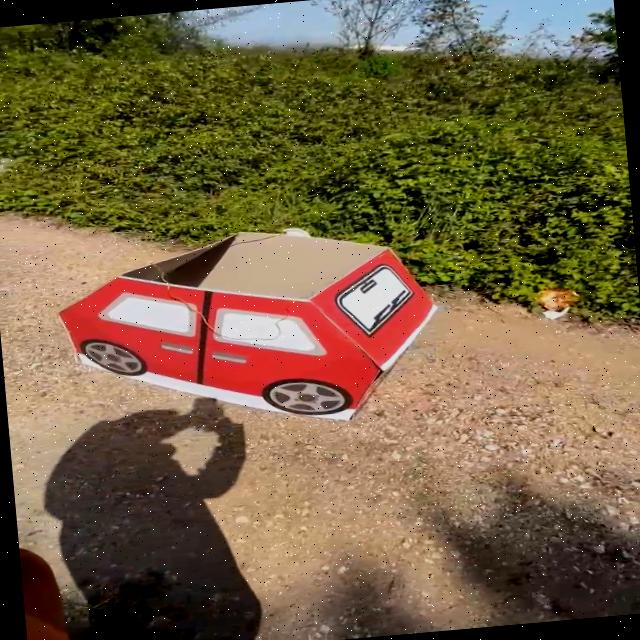red_car: (51, 208, 459, 453)
